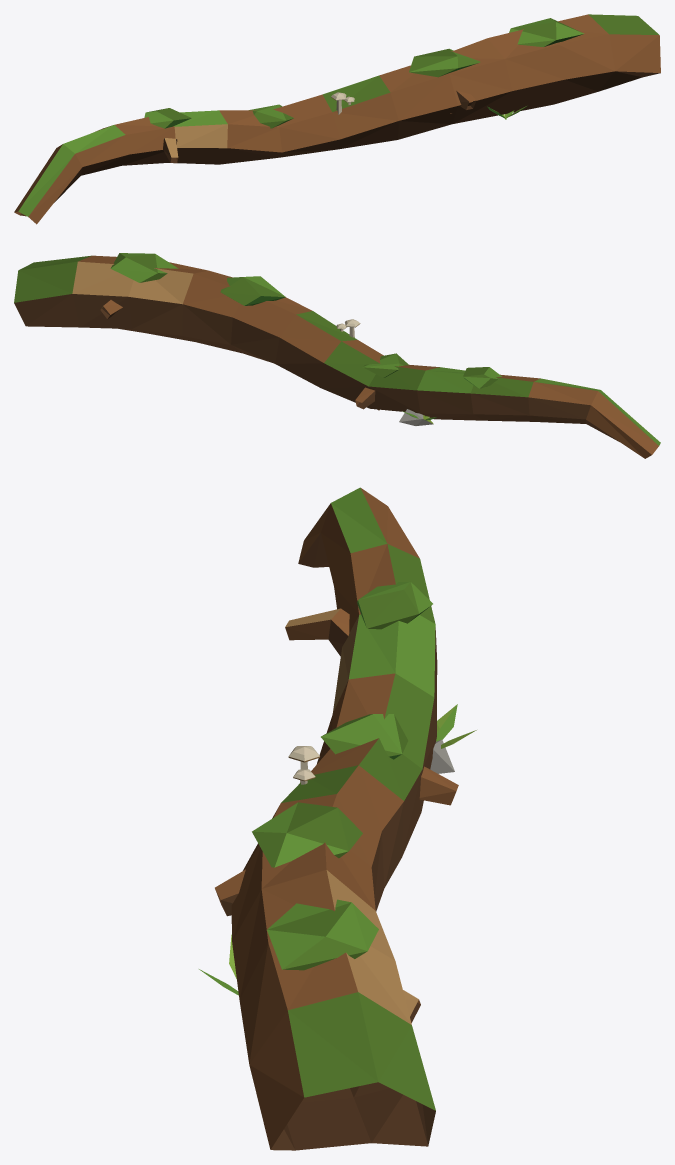
Rendered from hollow_roots_b.glb.
The picture shows the model from 3 angles, top to bottom: view 1: azimuth 30°, elevation 25°; view 2: azimuth 150°, elevation 25°; view 3: azimuth 270°, elevation 25°; orthographic projection. The views are drawn at different scales.
Parts seen in each view (by area): view 1: hollow_roots_b; view 2: hollow_roots_b; view 3: hollow_roots_b.
Boxes of the visible parts, <box> form: hollow_roots_b: <box>14,14,660,224</box>; hollow_roots_b: <box>14,253,660,458</box>; hollow_roots_b: <box>199,487,476,1150</box>.
Size of the model in its own units: 6.1 by 0.6368 by 1.18.
